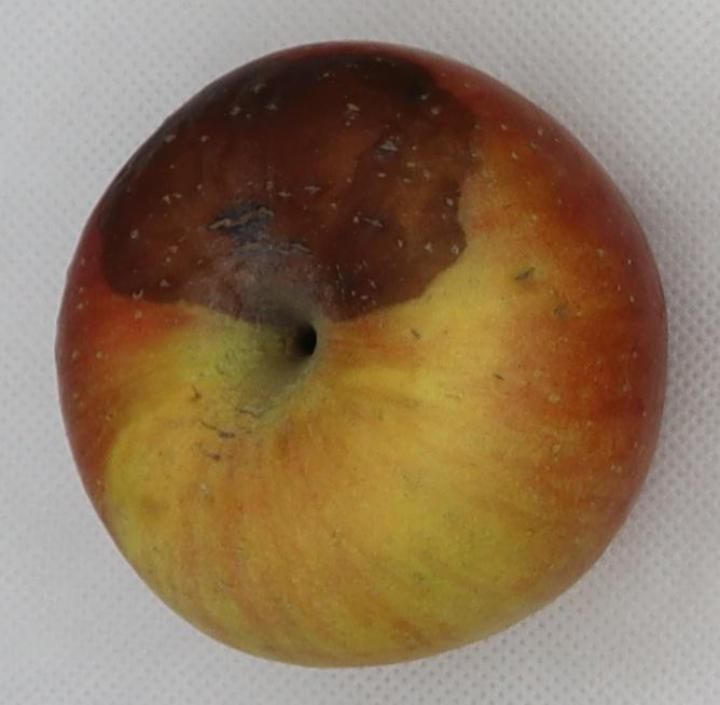apple: (56, 43, 665, 666)
rot_mold_decay: (95, 45, 479, 323)
